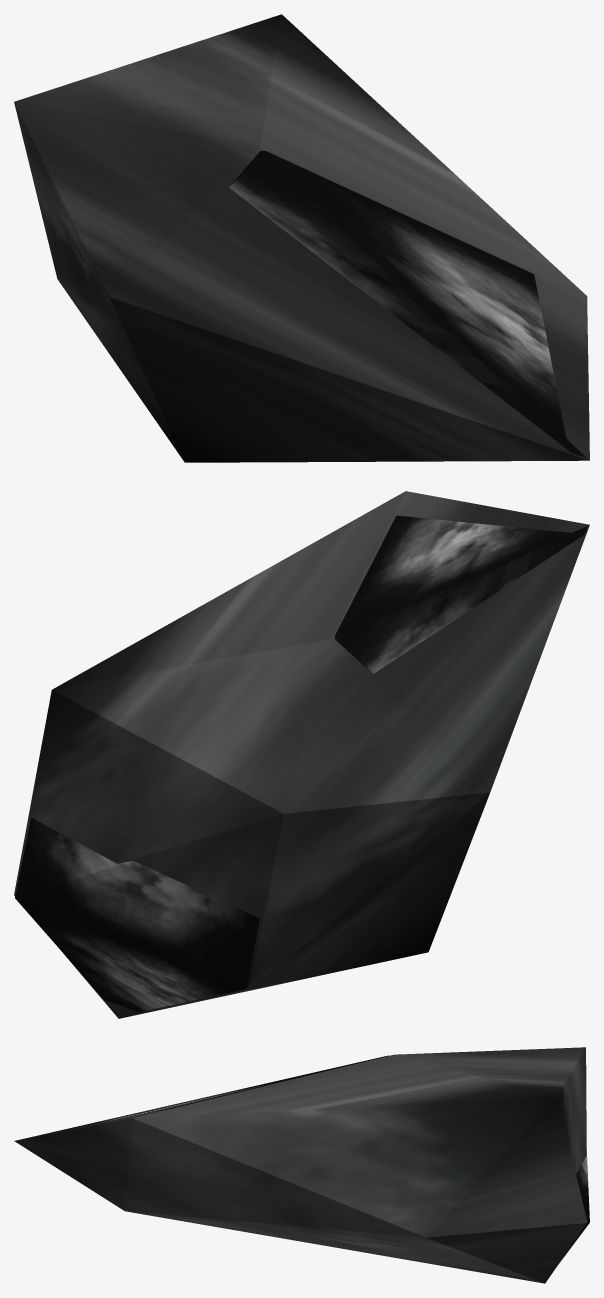
The model's file is tx_shuijingbingguan_keep.obj.
3 renders of one model, top to bottom at view 1: azimuth 30°, elevation 25°; view 2: azimuth 150°, elevation 25°; view 3: azimuth 270°, elevation 25°, orthographic. The views are drawn at different scales.
Parts seen in each view (by area): view 1: Object01#1, GeoSphere02#2; view 2: Object01#1, GeoSphere02#2; view 3: Object01#1, GeoSphere02#2.
Part boxes in pixels (<box>): Object01#1: <box>14,14,589,462</box>; GeoSphere02#2: <box>229,150,586,457</box>; Object01#1: <box>14,491,589,1018</box>; GeoSphere02#2: <box>15,515,587,1012</box>; Object01#1: <box>14,1047,587,1283</box>; GeoSphere02#2: <box>45,1055,589,1263</box>.
Bounding box in the file's own units: 54.9 × 42.89 × 110.
